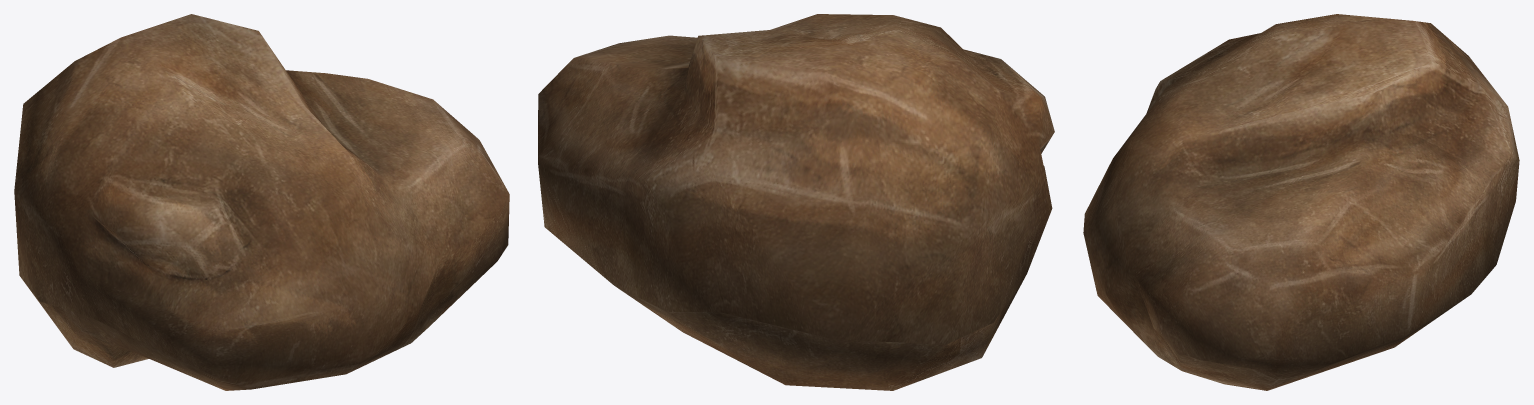
The model's file is modelRock03.fbx.
3 renders of one model, left to right at view 1: azimuth 30°, elevation 25°; view 2: azimuth 150°, elevation 25°; view 3: azimuth 270°, elevation 25°, orthographic. The views are drawn at different scales.
Visible parts, largest first — view 1: modelRock03; view 2: modelRock03; view 3: modelRock03.
Part boxes in pixels (x1,y1,x2,y2): modelRock03: (14,14,509,390); modelRock03: (538,14,1054,390); modelRock03: (1083,14,1519,390).
Bounding box in the file's own units: 16.66 × 10.58 × 14.68.
